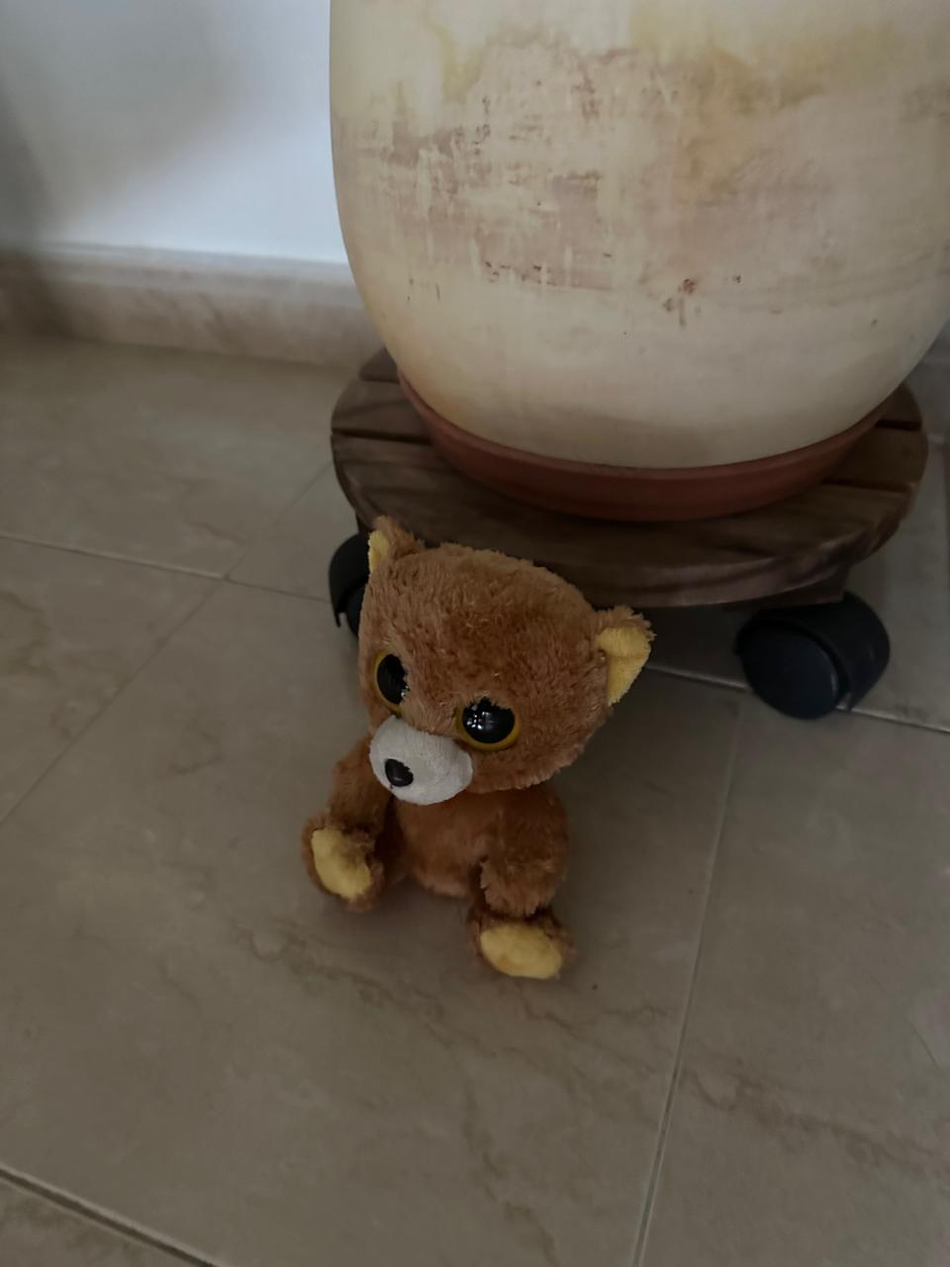peluche_sebastian: (299, 515, 651, 987)
